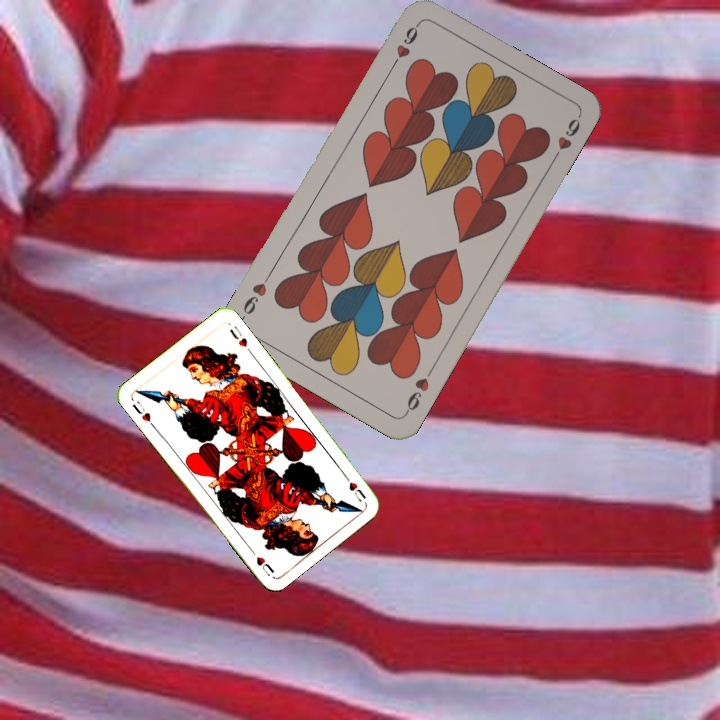H9: (401, 363, 437, 417), (386, 19, 422, 73)
HU: (339, 469, 369, 504), (128, 397, 157, 430)
